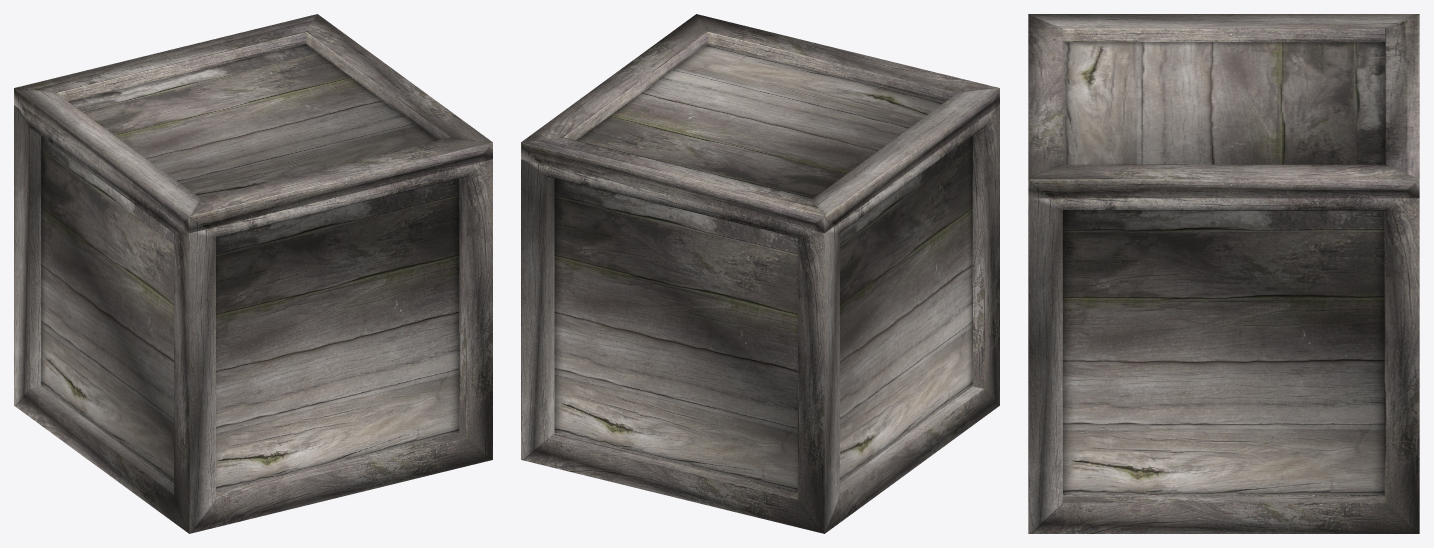
Rendered from UseCrate4@Open.fbx.
3 views of the same model, side by side, from view 1: azimuth 30°, elevation 25°; view 2: azimuth 150°, elevation 25°; view 3: azimuth 270°, elevation 25° (orthographic). The views are drawn at different scales.
Parts seen in each view (by area): view 1: Body, Cap; view 2: Body, Cap; view 3: Body, Cap.
Part boxes in pixels (x1=…): Body: x1=14, y1=105, x2=492, y2=533; Cap: x1=14, y1=14, x2=492, y2=233; Body: x1=521, y1=105, x2=999, y2=533; Cap: x1=521, y1=14, x2=999, y2=233; Body: x1=1028, y1=198, x2=1419, y2=533; Cap: x1=1028, y1=14, x2=1419, y2=198.
Size of the model in its own units: 12.5 by 12.5 by 12.5.
Materials: 1 (1 with a texture image).
